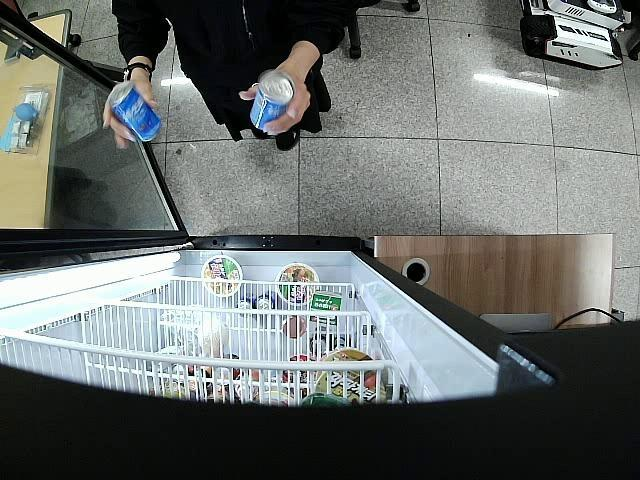15_letsbe: (107, 80, 162, 144), (250, 70, 296, 130)
